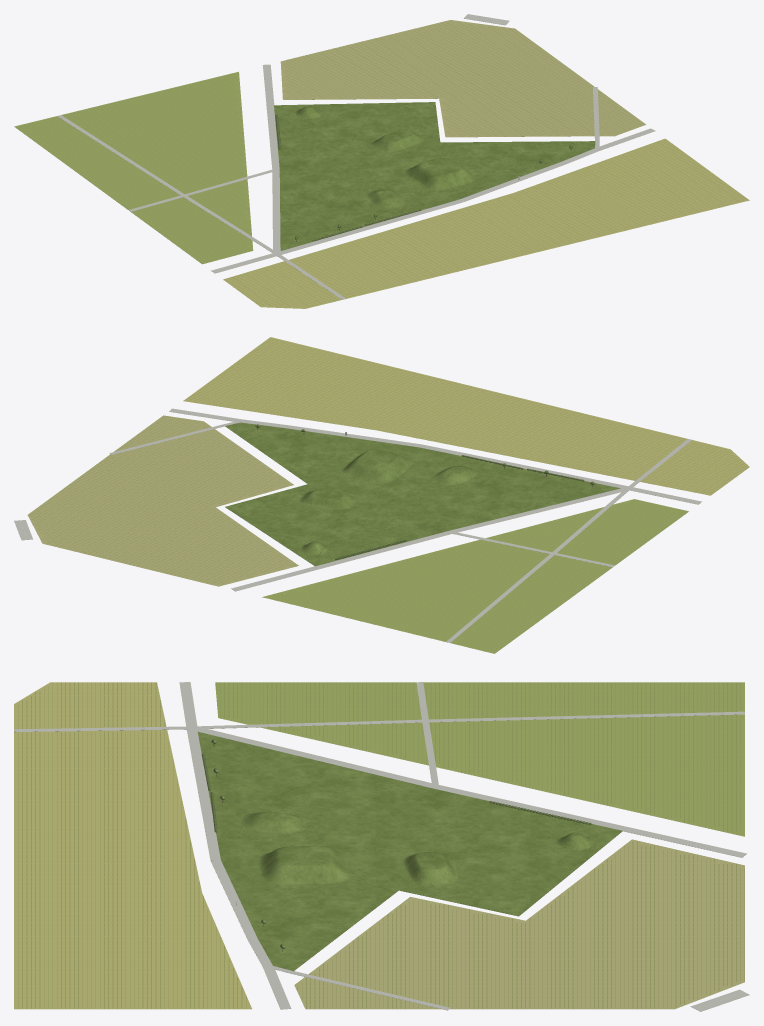
The model's file is bogam-tumuli.glb.
The picture shows the model from 3 angles, top to bottom: view 1: azimuth 30°, elevation 25°; view 2: azimuth 150°, elevation 25°; view 3: azimuth 270°, elevation 25°; orthographic projection. The views are drawn at different scales.
Visible parts, largest first — view 1: mapped_farmland_963585586, mapped_farmland_963585588, mapped_farmland_963585587, ground_floor_bogam_lawn, estimated_crop_rows_963585586, estimated_crop_rows_963585588, estimated_crop_rows_963585587, mound_3, mound_2, road_468614763_6, mound_4, road_766680150_0 (+1 smaller); view 2: mapped_farmland_963585586, mapped_farmland_963585588, mapped_farmland_963585587, ground_floor_bogam_lawn, estimated_crop_rows_963585586, estimated_crop_rows_963585588, estimated_crop_rows_963585587, mound_3, mound_2, road_468614763_6, road_766680150_0, mound_4 (+1 smaller); view 3: mapped_farmland_963585586, mapped_farmland_963585588, mapped_farmland_963585587, ground_floor_bogam_lawn, estimated_crop_rows_963585586, estimated_crop_rows_963585588, estimated_crop_rows_963585587, mound_3, mound_2, road_468614763_6, road_766680150_0, mound_4 (+6 smaller).
Part boxes in pixels (left/top/right/bottom): mapped_farmland_963585586: left=223, top=138, right=749, bottom=308; mapped_farmland_963585588: left=280, top=20, right=645, bottom=137; mapped_farmland_963585587: left=14, top=71, right=253, bottom=264; ground_floor_bogam_lawn: left=274, top=102, right=595, bottom=250; estimated_crop_rows_963585586: left=224, top=140, right=747, bottom=307; estimated_crop_rows_963585588: left=283, top=20, right=644, bottom=136; estimated_crop_rows_963585587: left=16, top=75, right=251, bottom=263; mound_3: left=404, top=158, right=476, bottom=190; mound_2: left=371, top=129, right=425, bottom=152; road_468614763_6: left=275, top=199, right=462, bottom=254; mound_4: left=366, top=188, right=405, bottom=209; road_766680150_0: left=272, top=169, right=280, bottom=253; mapped_farmland_963585586: left=183, top=337, right=749, bottom=495; mapped_farmland_963585588: left=27, top=415, right=298, bottom=586; mapped_farmland_963585587: left=262, top=499, right=688, bottom=653; ground_floor_bogam_lawn: left=225, top=422, right=620, bottom=566; estimated_crop_rows_963585586: left=186, top=338, right=748, bottom=494; estimated_crop_rows_963585588: left=28, top=416, right=295, bottom=585; estimated_crop_rows_963585587: left=272, top=499, right=688, bottom=652; mound_3: left=341, top=449, right=413, bottom=482; mound_2: left=298, top=489, right=357, bottom=509; road_468614763_6: left=419, top=444, right=629, bottom=489; road_766680150_0: left=449, top=488, right=624, bottom=533; mound_4: left=432, top=465, right=478, bottom=485; mapped_farmland_963585586: left=14, top=682, right=251, bottom=1009; mapped_farmland_963585588: left=294, top=839, right=744, bottom=1009; mapped_farmland_963585587: left=215, top=682, right=744, bottom=836; ground_floor_bogam_lawn: left=198, top=732, right=622, bottom=971; estimated_crop_rows_963585586: left=18, top=682, right=246, bottom=1008; estimated_crop_rows_963585588: left=297, top=841, right=744, bottom=1008; estimated_crop_rows_963585587: left=216, top=682, right=740, bottom=831; mound_3: left=258, top=846, right=349, bottom=884; mound_2: left=403, top=852, right=458, bottom=885; road_468614763_6: left=187, top=727, right=220, bottom=860; road_766680150_0: left=191, top=727, right=437, bottom=788; mound_4: left=240, top=812, right=308, bottom=833.
Size of what is drawn, in the model's own units: 363 by 6.23 by 342.
Materials: 23 (1 with a texture image).
